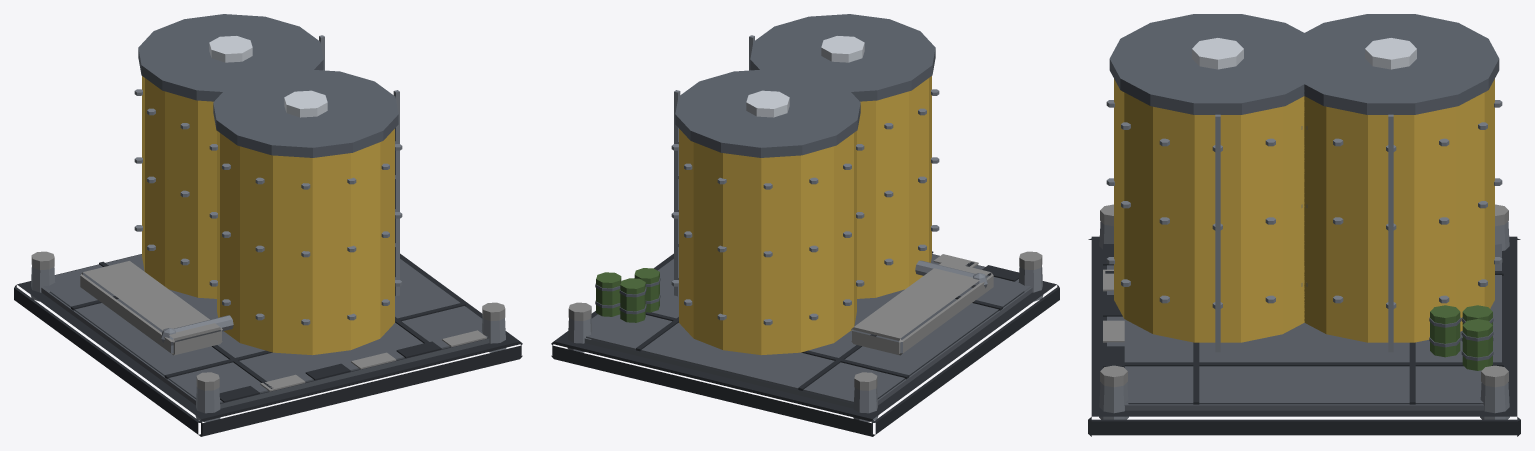
The model's file is con_battery.glb.
The picture shows the model from 3 angles, left to right: view 1: azimuth 30°, elevation 25°; view 2: azimuth 150°, elevation 25°; view 3: azimuth 270°, elevation 25°; orthographic projection. The views are drawn at different scales.
Visible parts, largest first — view 1: body; view 2: body; view 3: body.
Boxes of the visible parts, left/top/right/bottom form: body: left=14, top=14, right=522, bottom=436; body: left=551, top=14, right=1059, bottom=436; body: left=1088, top=14, right=1520, bottom=436.
Bounding box in the file's own units: 48 × 36.48 × 48.
